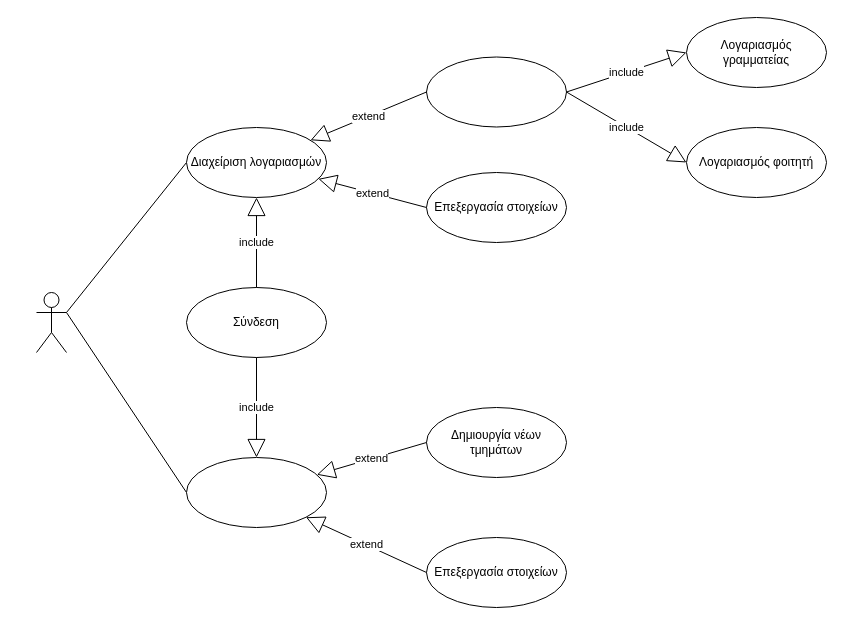
Image size: 844x625. Some labels were removed from this diagram. Each missing label, with the box of its shape:
Super Admin: (36, 292, 66, 352)
Δημιουργία νέων λογαριασμένω: (426, 56, 566, 127)
Διαχείριση τμημάτων σχολής: (186, 456, 326, 528)
